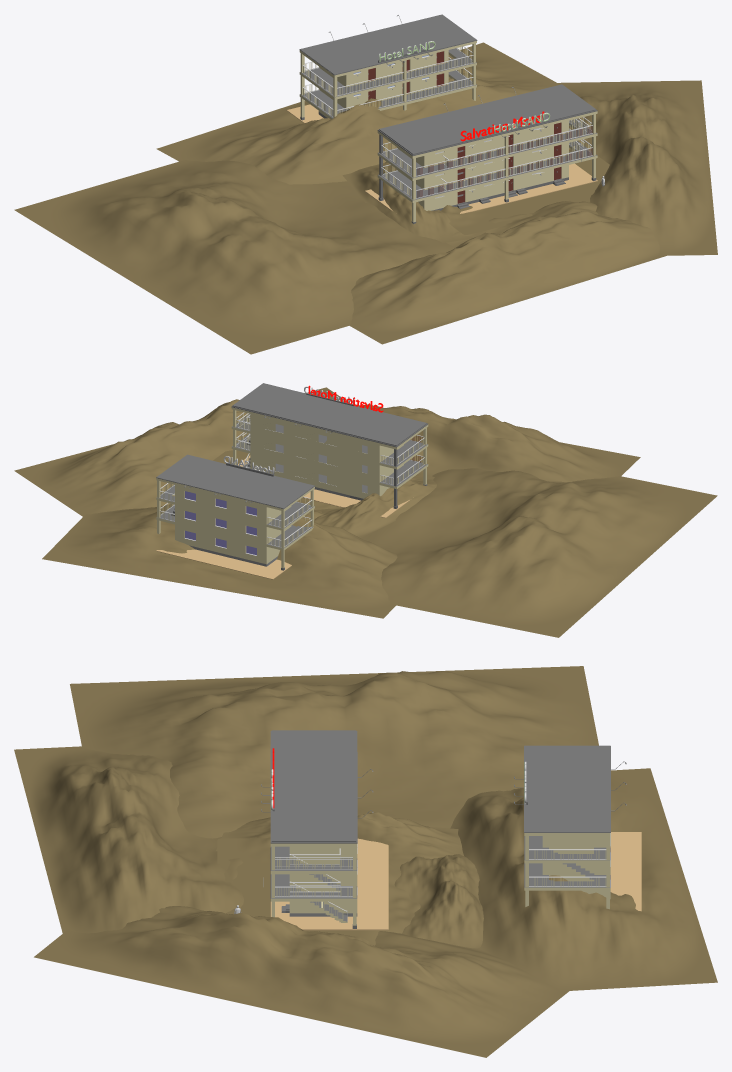
Rendered from Motel Milestone 2.fbx.
3 views of the same model, one above another, from view 1: azimuth 30°, elevation 25°; view 2: azimuth 150°, elevation 25°; view 3: azimuth 270°, elevation 25° (orthographic). The views are drawn at different scales.
Visible parts, largest first — view 1: Landscape.003, Landscape.004, Landscape.005, Landscape.001, Roof_Cube.222, Cube, MotelRoof, Cube.002, MotelBody, Landscape.000, Plane, Cube.238 (+2 smaller); view 2: Landscape.003, Landscape.001, Landscape.005, Landscape.004, Roof_Cube.222, Cube, MotelRoof, Cube.002, Landscape.000, MotelBody, Plane.001, Cube.247 (+2 smaller); view 3: Landscape.003, Landscape.005, Landscape.001, Landscape.004, MotelRoof, Cube.002, Landscape.002, Plane, Cube, Landscape.000, Plane.002, MotelBody (+2 smaller).
Part boxes in pixels (left/top/right/bottom): Landscape.003: left=14, top=160, right=454, bottom=354; Landscape.004: left=349, top=200, right=666, bottom=344; Landscape.005: left=558, top=80, right=717, bottom=255; Landscape.001: left=156, top=42, right=559, bottom=184; Roof_Cube.222: left=378, top=120, right=597, bottom=210; Cube: left=299, top=41, right=476, bottom=119; MotelRoof: left=377, top=84, right=597, bottom=155; Cube.002: left=299, top=14, right=477, bottom=75; MotelBody: left=377, top=111, right=597, bottom=203; Landscape.000: left=342, top=162, right=474, bottom=242; Plane: left=441, top=149, right=609, bottom=234; Cube.238: left=417, top=126, right=592, bottom=197; Landscape.003: left=361, top=468, right=717, bottom=637; Landscape.001: left=42, top=504, right=397, bottom=618; Landscape.005: left=14, top=387, right=346, bottom=516; Landscape.004: left=352, top=404, right=640, bottom=482; Roof_Cube.222: left=231, top=407, right=427, bottom=498; Cube: left=156, top=478, right=314, bottom=564; MotelRoof: left=231, top=383, right=427, bottom=447; Cube.002: left=156, top=454, right=314, bottom=508; Landscape.000: left=314, top=472, right=436, bottom=537; MotelBody: left=232, top=414, right=428, bottom=492; Plane.001: left=156, top=549, right=291, bottom=579; Cube.247: left=275, top=424, right=367, bottom=493; Landscape.003: left=70, top=666, right=598, bottom=838; Landscape.005: left=34, top=906, right=569, bottom=1057; Landscape.001: left=450, top=768, right=717, bottom=991; Landscape.004: left=14, top=746, right=243, bottom=933; MotelRoof: left=270, top=730, right=357, bottom=843; Cube.002: left=524, top=745, right=610, bottom=832; Landscape.002: left=394, top=854, right=483, bottom=948; Plane: left=217, top=837, right=420, bottom=945; Cube: left=524, top=833, right=610, bottom=899; Landscape.000: left=216, top=812, right=463, bottom=872; Plane.002: left=270, top=838, right=388, bottom=929; MotelBody: left=270, top=846, right=357, bottom=913.
Bounding box in the file's own units: 8742 × 1260 × 6636.
